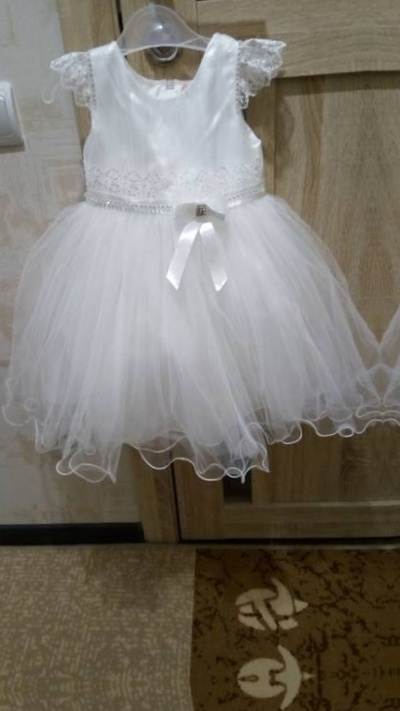Dress: (0, 2, 386, 499), (364, 0, 400, 481)
